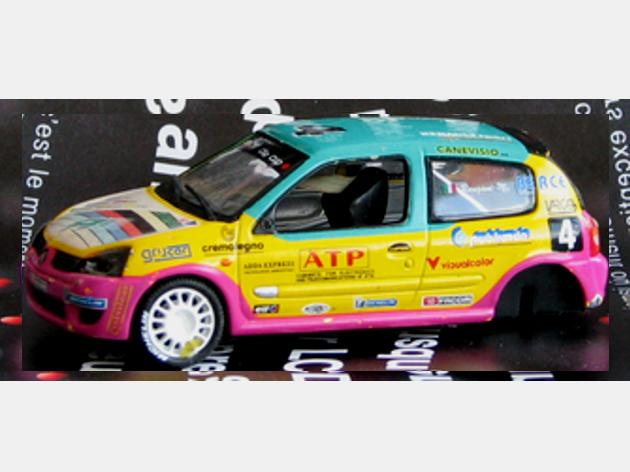toy-car: (21, 114, 608, 371)
